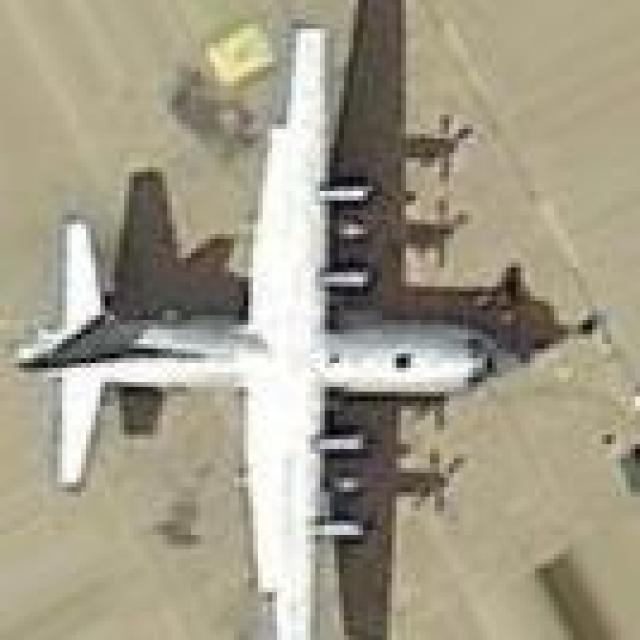C-130_TopDown: (15, 0, 572, 640)
